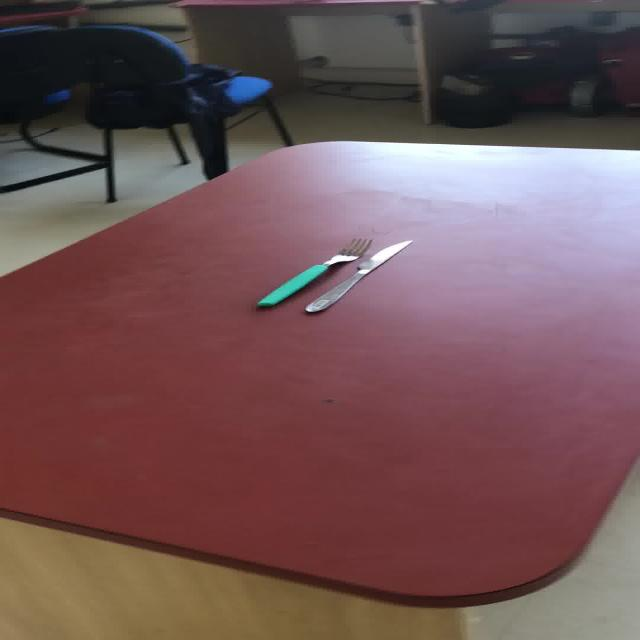fork: (255, 236, 372, 307)
knife fork: (254, 235, 412, 312), (255, 236, 372, 307), (303, 238, 412, 312)
